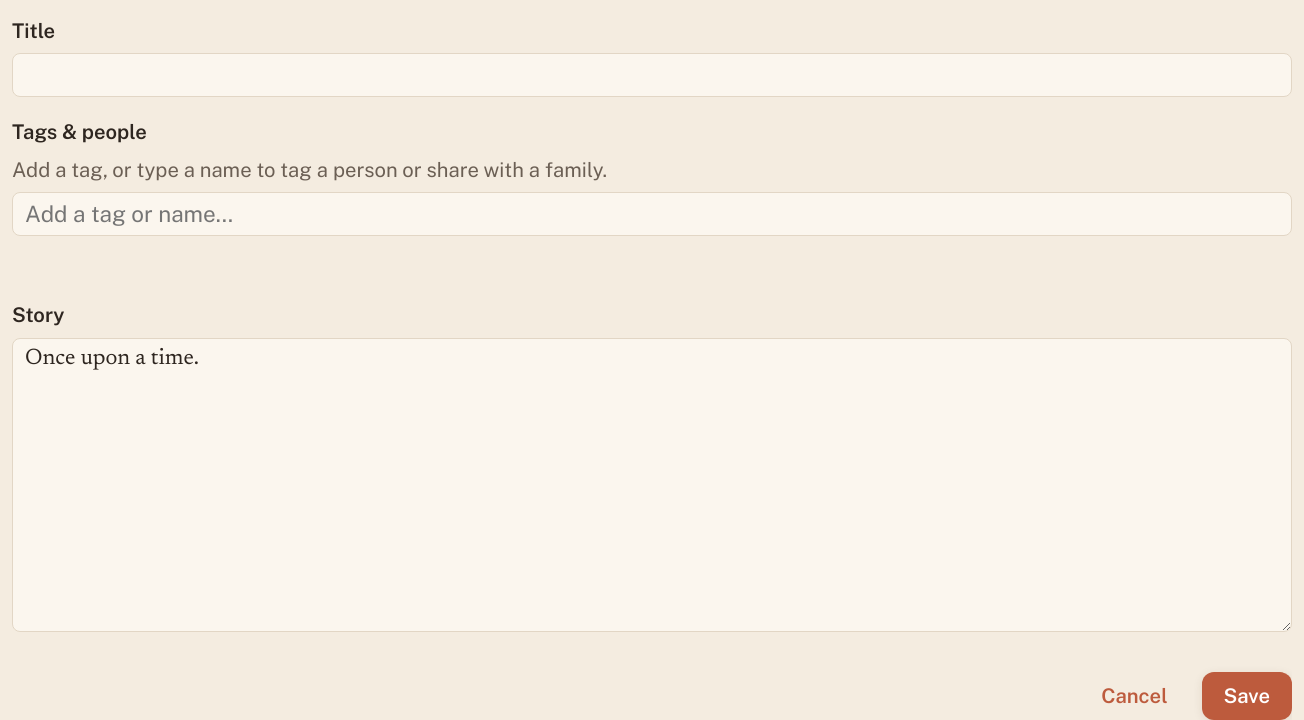
Scenario: does not close and does not save when the title is empty
This screenshot has width=1304, height=720.
Click the button "Save": (1247, 696) [1202,672,1292,719]
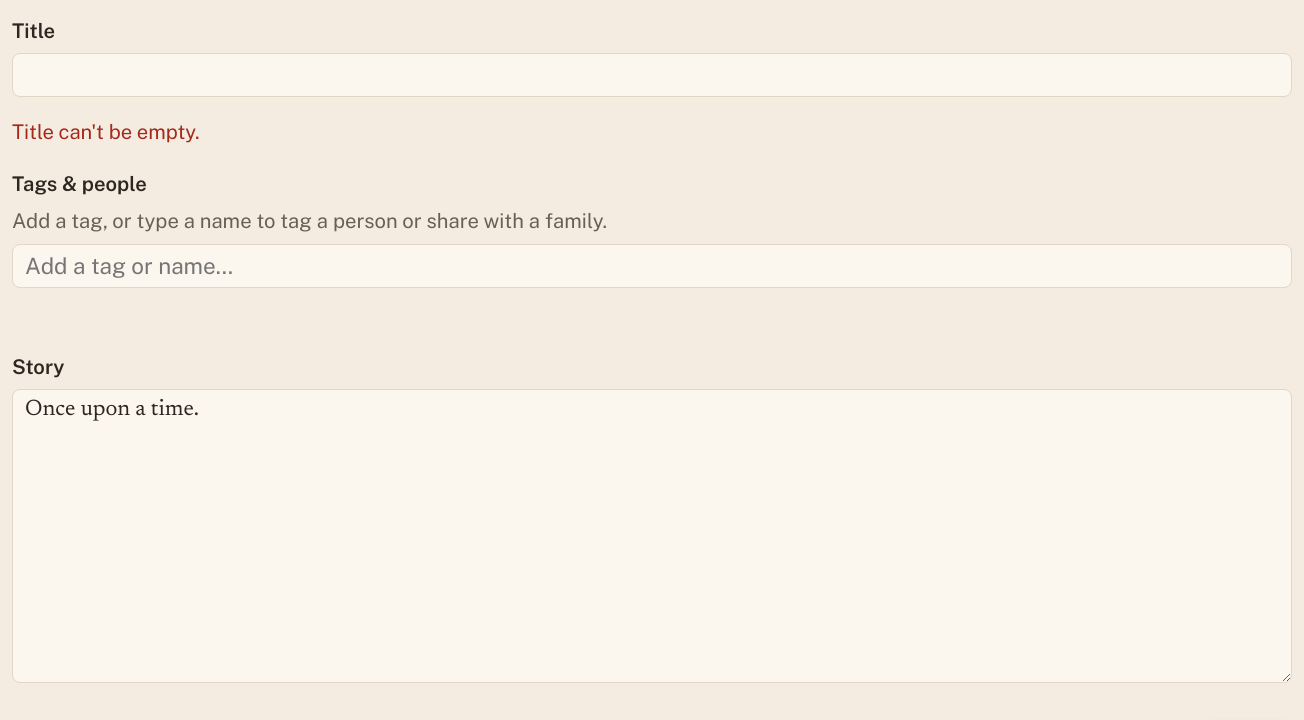
Expected: the text "Title can't be empty." is shown, [12,120,200,144]
